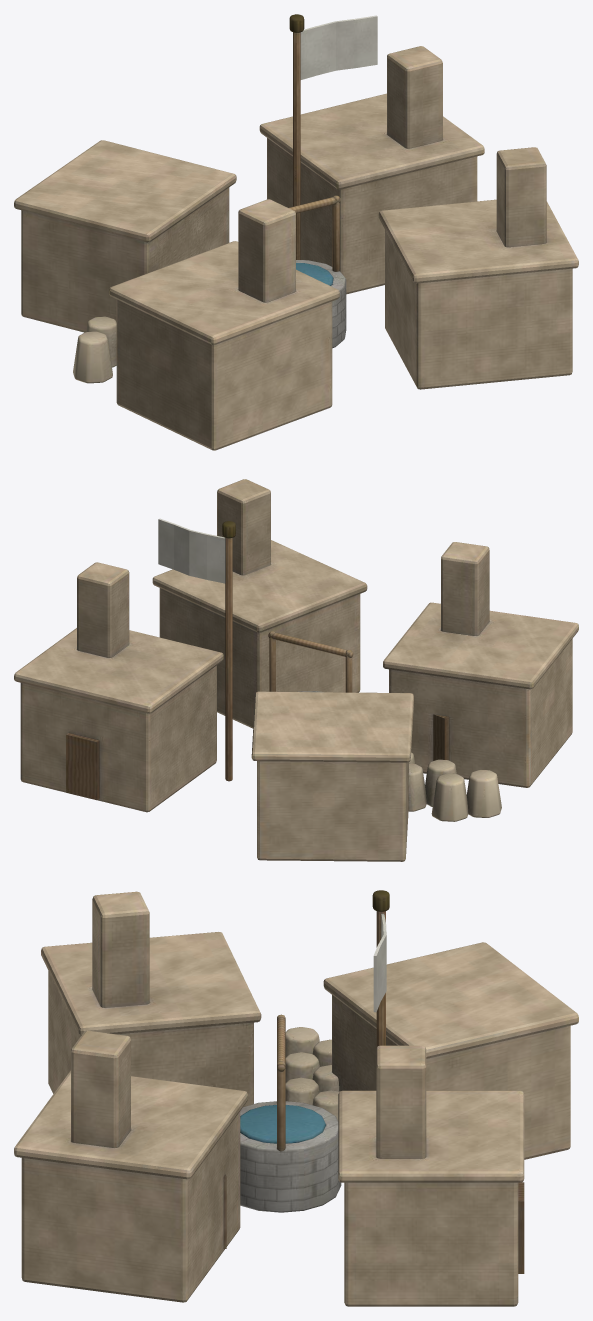
File: village.glb
3 renders of one model, top to bottom at view 1: azimuth 30°, elevation 25°; view 2: azimuth 150°, elevation 25°; view 3: azimuth 270°, elevation 25°, orthographic. The views are drawn at different scales.
Visible parts, largest first — view 1: village; view 2: village; view 3: village.
Boxes of the visible parts, x1,y1,x2,y2 form: village: [14, 14, 578, 450]; village: [14, 479, 578, 861]; village: [14, 890, 578, 1306].
Bounding box in the file's own units: 5.74 × 3.54 × 5.65.
1 material, 1 textured.
